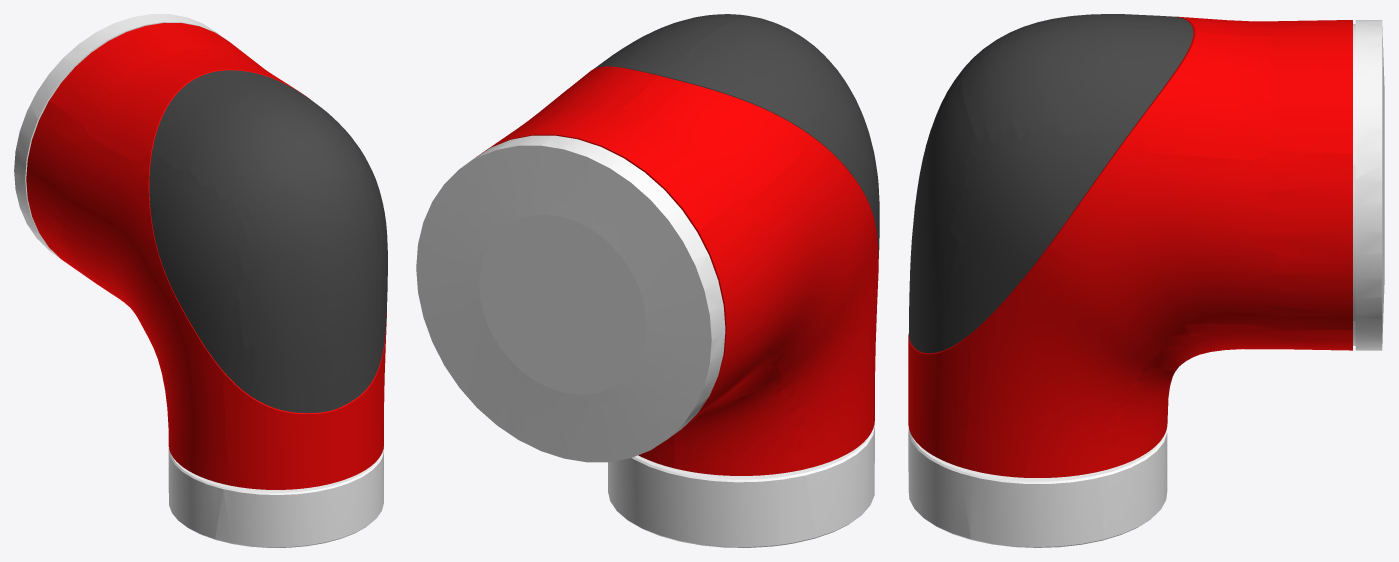
The picture shows the model from 3 angles, left to right: view 1: azimuth 30°, elevation 25°; view 2: azimuth 150°, elevation 25°; view 3: azimuth 270°, elevation 25°; orthographic projection. The views are drawn at different scales.
Parts seen in each view (by area): view 1: _3DGeom_24_geo_2.001, _3DGeom_23_geo_1.001, _3DGeom_22_geo_0.001; view 2: _3DGeom_22_geo_0.001, _3DGeom_23_geo_1.001, _3DGeom_24_geo_2.001; view 3: _3DGeom_23_geo_1.001, _3DGeom_24_geo_2.001, _3DGeom_22_geo_0.001.
Boxes of the visible parts, bbox=[...] form: _3DGeom_24_geo_2.001: bbox=[149, 70, 387, 413]; _3DGeom_23_geo_1.001: bbox=[26, 23, 386, 489]; _3DGeom_22_geo_0.001: bbox=[14, 14, 383, 547]; _3DGeom_22_geo_0.001: bbox=[416, 135, 874, 547]; _3DGeom_23_geo_1.001: bbox=[477, 66, 878, 475]; _3DGeom_24_geo_2.001: bbox=[594, 14, 879, 258]; _3DGeom_23_geo_1.001: bbox=[908, 16, 1352, 477]; _3DGeom_24_geo_2.001: bbox=[908, 14, 1193, 353]; _3DGeom_22_geo_0.001: bbox=[908, 20, 1384, 547].
Size of the model in its own units: 0.136 by 0.2115 by 0.1958.
